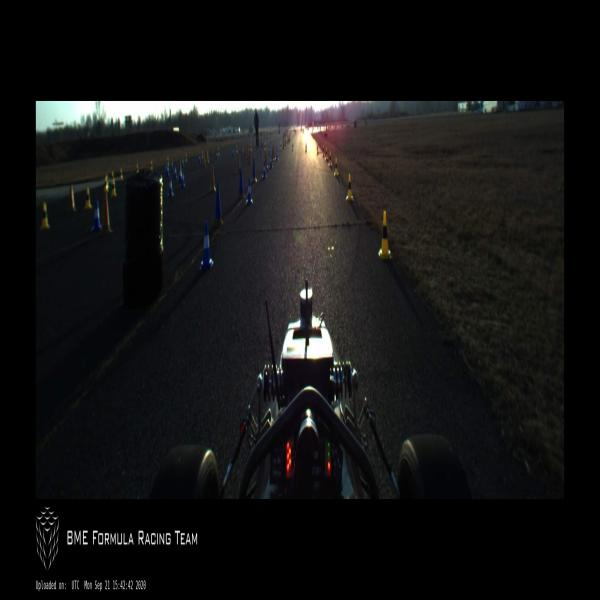blue_cone: (199, 220, 214, 270), (91, 200, 102, 231), (246, 179, 253, 205), (168, 176, 174, 198), (180, 168, 186, 188), (173, 164, 178, 179), (262, 161, 266, 179), (178, 167, 182, 183), (269, 154, 273, 169), (170, 159, 174, 171), (166, 164, 169, 176), (268, 145, 271, 156), (215, 150, 218, 160), (276, 146, 278, 160), (259, 146, 262, 155), (182, 156, 184, 167), (232, 147, 234, 157), (199, 154, 200, 164)
unknown_cone: (101, 194, 113, 235), (214, 184, 224, 227), (238, 168, 245, 200), (209, 164, 216, 193), (70, 185, 76, 211), (252, 158, 257, 182), (236, 155, 240, 175), (265, 150, 268, 169), (202, 154, 206, 168), (206, 150, 209, 164), (248, 151, 251, 164), (274, 144, 276, 161), (244, 146, 247, 157), (272, 146, 274, 162), (247, 148, 249, 160)
yellow_cone: (378, 210, 392, 260), (40, 202, 50, 229), (346, 173, 353, 202), (85, 188, 92, 209), (111, 178, 116, 197), (334, 157, 338, 176), (104, 177, 108, 192), (111, 171, 115, 185), (119, 168, 123, 180), (329, 151, 332, 166), (322, 144, 325, 157), (106, 174, 109, 187), (325, 148, 328, 159), (316, 144, 319, 155), (150, 160, 153, 170), (201, 150, 204, 159), (136, 165, 139, 173), (167, 156, 169, 167), (305, 143, 307, 153), (292, 142, 294, 152), (279, 141, 281, 151), (185, 153, 187, 162), (236, 145, 238, 154), (218, 148, 220, 156), (250, 143, 252, 151), (264, 142, 266, 150)
